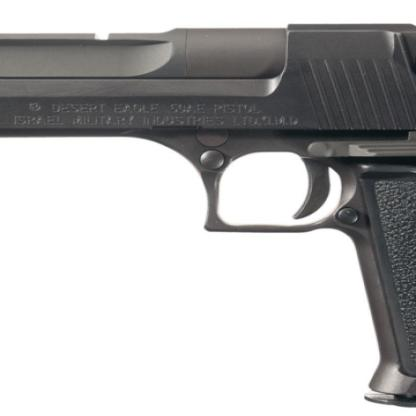handgun: (5, 8, 416, 412)
